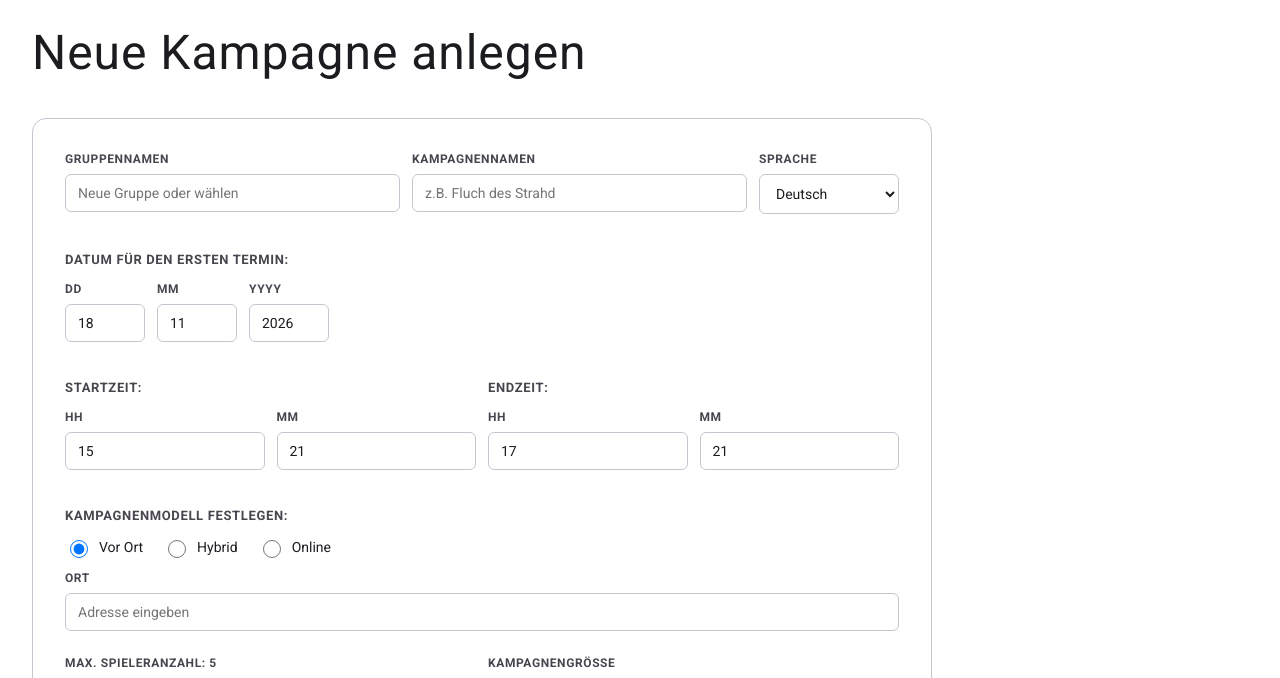
Test: NeueKampagne (Formular-Isolation) › rendert den lokalen Error-State bei ungültigen Eingaben (400 vom Backend)
This screenshot has width=1280, height=678.
Type "Ungültig" into the field with placeholder "z.B. Fluch des Strahd". click: (580, 193)
box: [412,174,747,212]
(page scrolled)
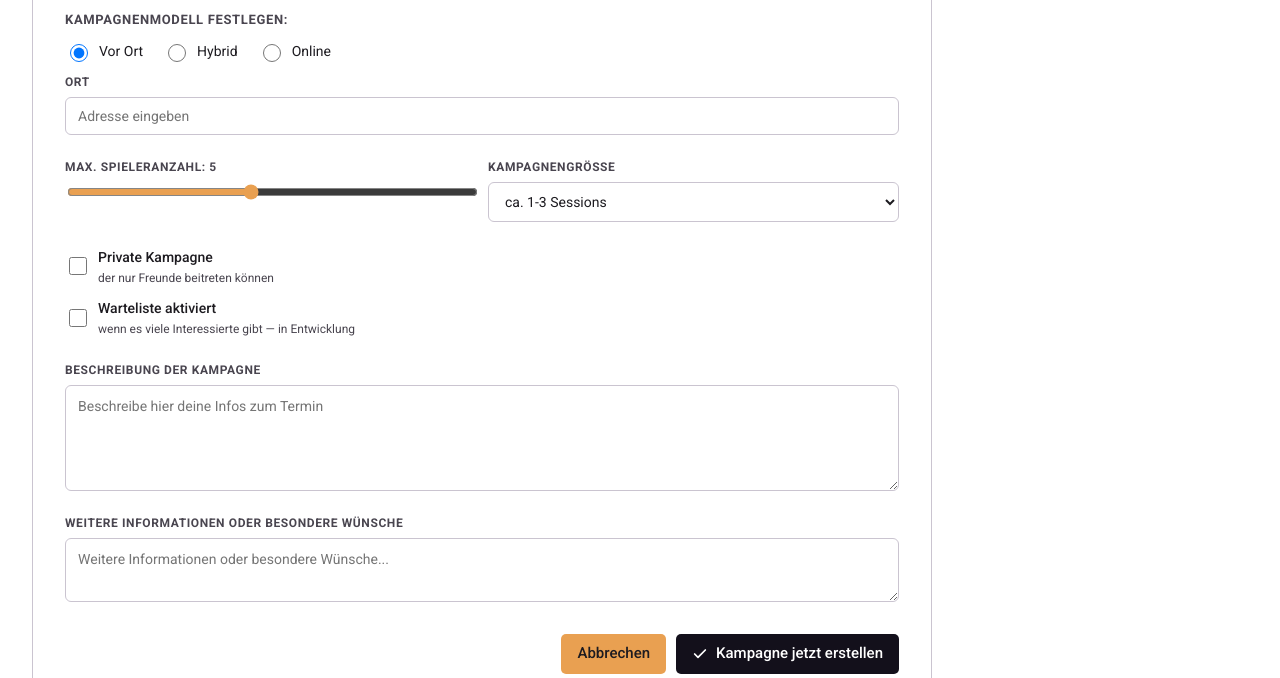
Click the button "Kampagne jetzt erstellen". click: (788, 654)
box: [676,634,899,674]
(page scrolled)
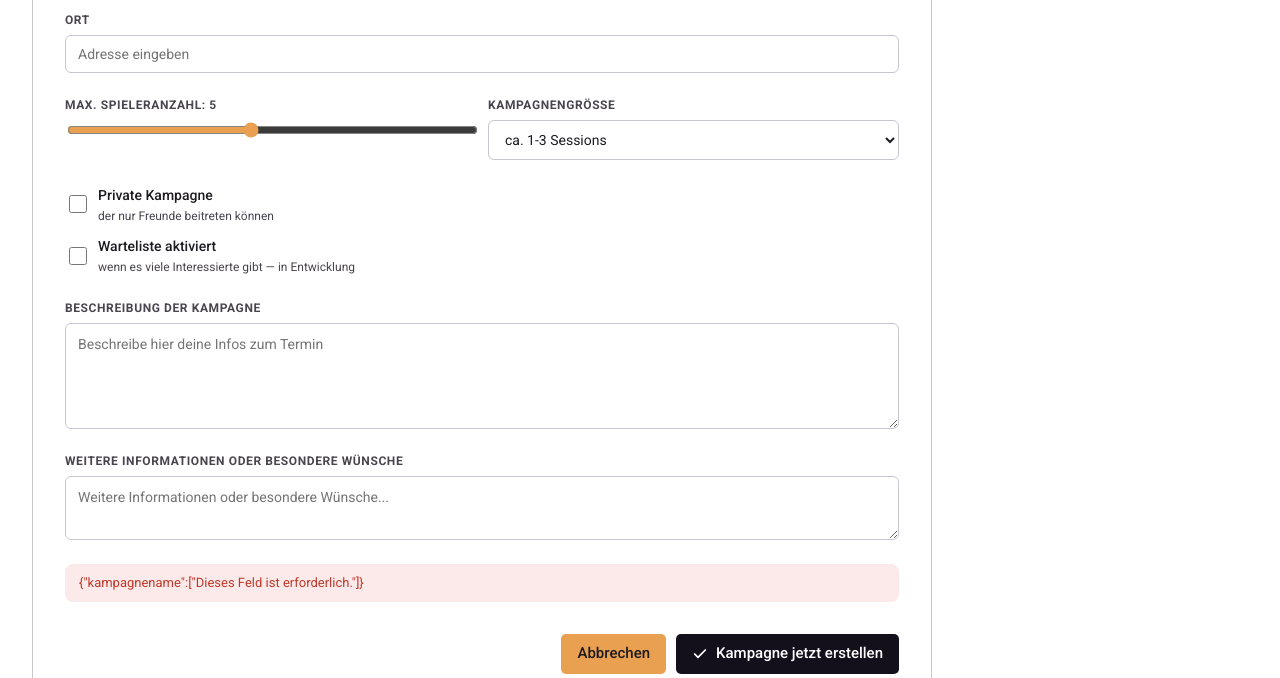
Check: the text "{\"kampagnename\":[\"Dieses Feld ist erforderlich.\"]}" is shown, box [65,564,899,602]
